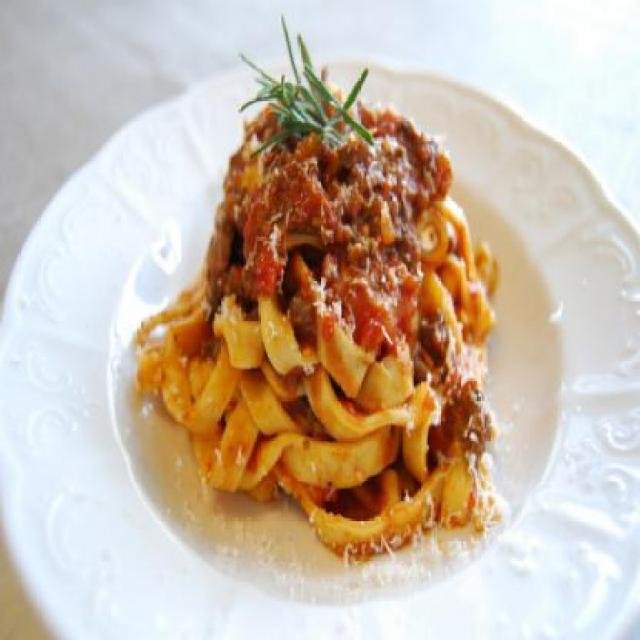Pasta al ragu: (116, 23, 559, 559)
